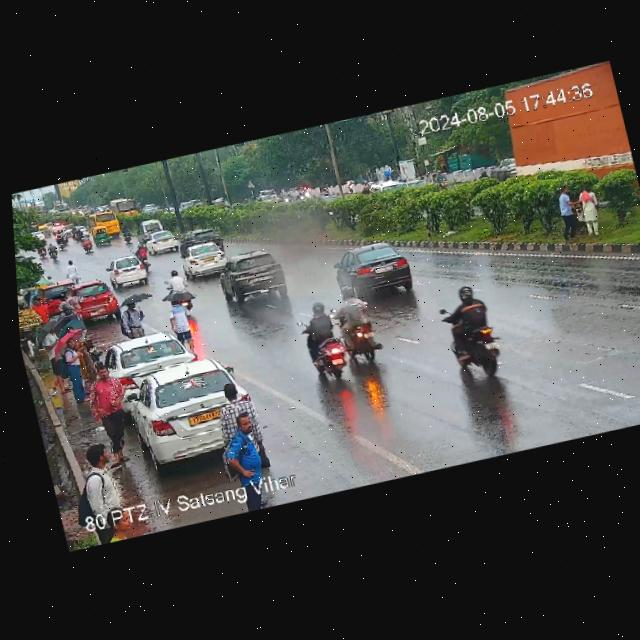bus: (82, 209, 120, 241)
car: (106, 348, 271, 473), (331, 235, 421, 304), (216, 243, 300, 308), (69, 279, 122, 322), (179, 241, 233, 280), (104, 252, 150, 289), (142, 228, 184, 257), (178, 224, 223, 248), (91, 224, 115, 246)
motorcycle: (293, 284, 387, 378), (432, 280, 507, 386), (294, 293, 350, 380), (160, 267, 190, 296), (80, 233, 99, 254), (43, 239, 60, 260), (120, 226, 137, 245)
person: (67, 438, 135, 537), (210, 409, 276, 492), (87, 365, 133, 450), (551, 183, 609, 247), (161, 288, 203, 350), (60, 335, 95, 399), (114, 291, 150, 339), (59, 259, 84, 287), (32, 294, 53, 327)
truck: (483, 62, 637, 201)
